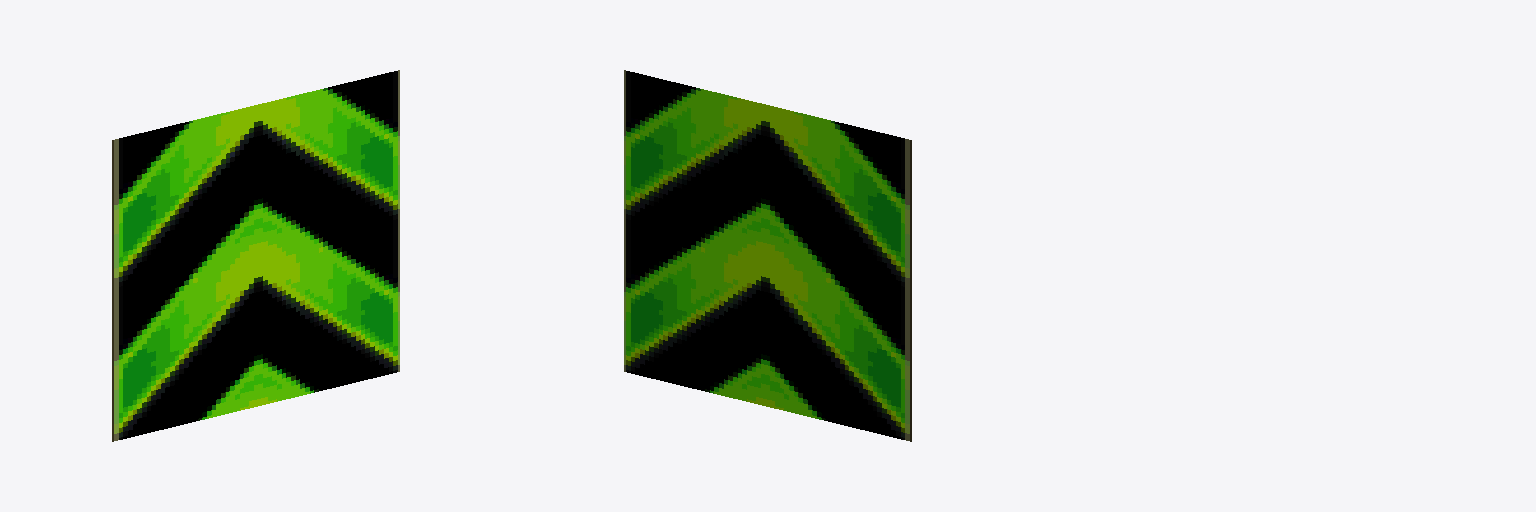
3 views of the same model, side by side, from view 1: azimuth 30°, elevation 25°; view 2: azimuth 150°, elevation 25°; view 3: azimuth 270°, elevation 25° (orthographic).
Visible parts, largest first — view 1: Mesh_0; view 2: Mesh_0; view 3: none.
Part boxes in pixels (x1,y1,x2,y2): Mesh_0: (112,70,399,441); Mesh_0: (624,70,911,441).
Size of the model in its own units: 1 by 1 by 0.
Materials: 7 (7 with a texture image).